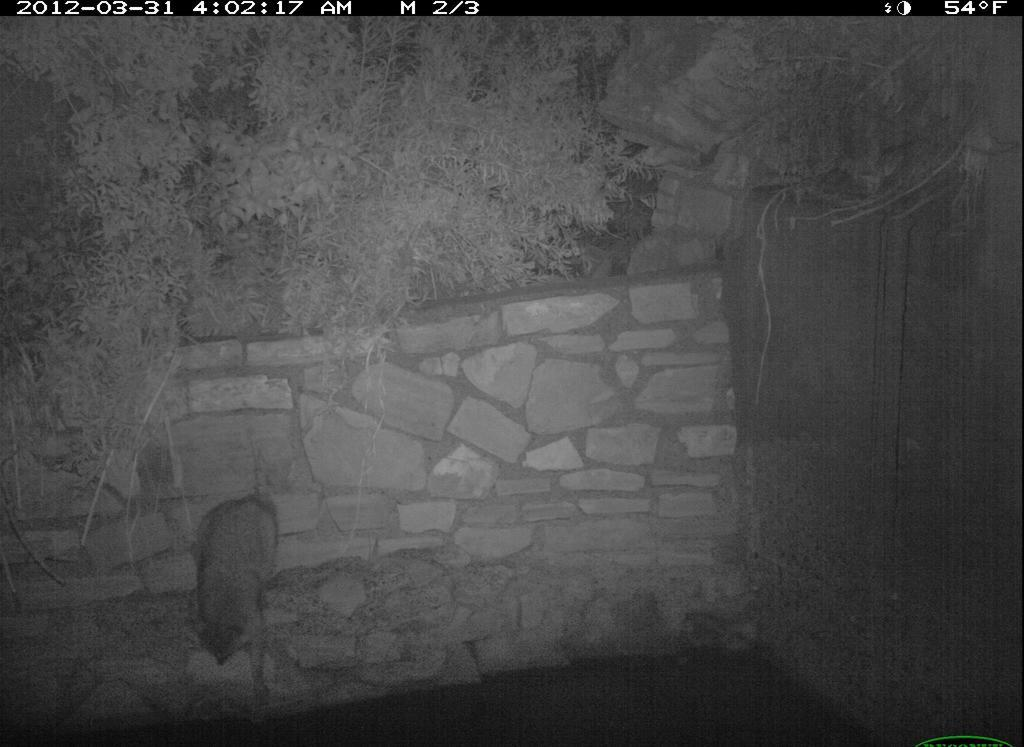raccoon: (167, 472, 299, 678)
